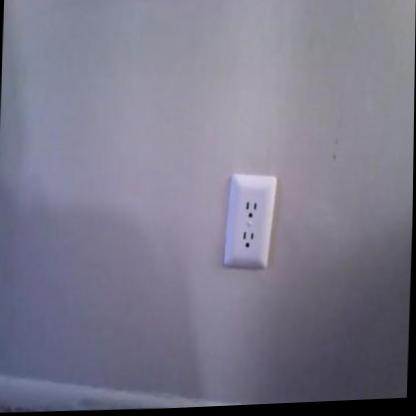OUTLET: (221, 172, 278, 271)
